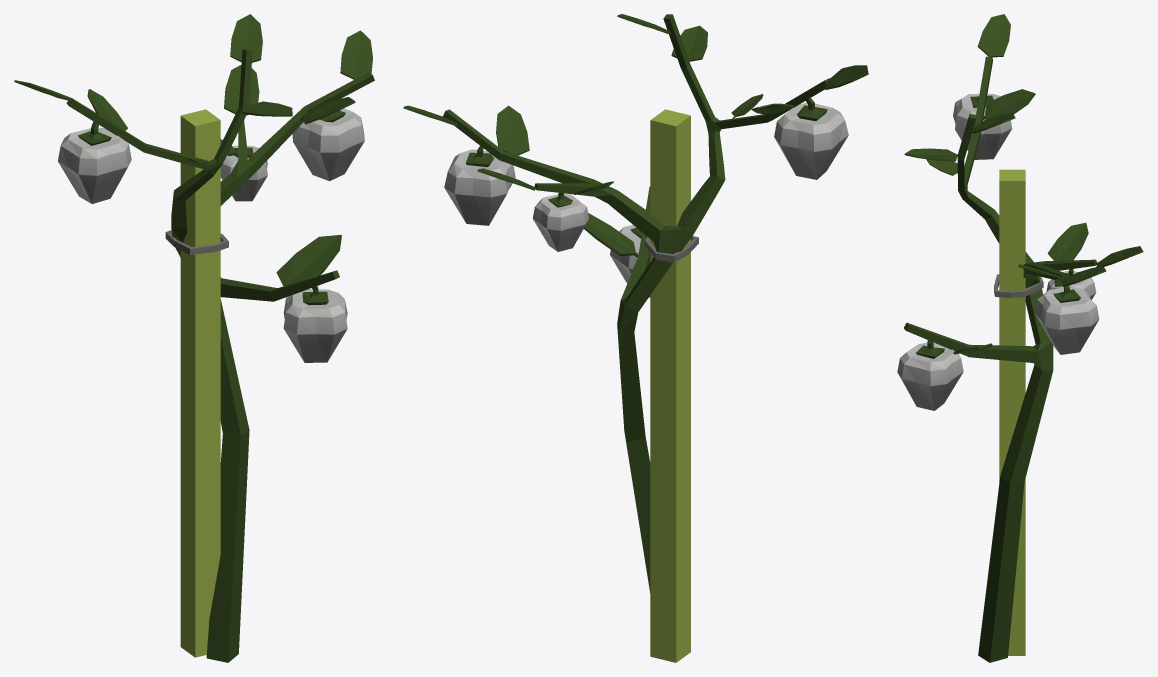
Rendered from PepperPlant_04.fbx.
3 views of the same model, side by side, from view 1: azimuth 30°, elevation 25°; view 2: azimuth 150°, elevation 25°; view 3: azimuth 270°, elevation 25° (orthographic). The views are drawn at different scales.
Visible parts, largest first — view 1: PepperPlant_04; view 2: PepperPlant_04; view 3: PepperPlant_04.
Boxes of the visible parts, x1,y1,x2,y2 form: PepperPlant_04: (14,14,374,662); PepperPlant_04: (403,14,868,662); PepperPlant_04: (897,14,1143,662).
Bounding box in the file's own units: 0.6228 × 0.9133 × 0.3659.
